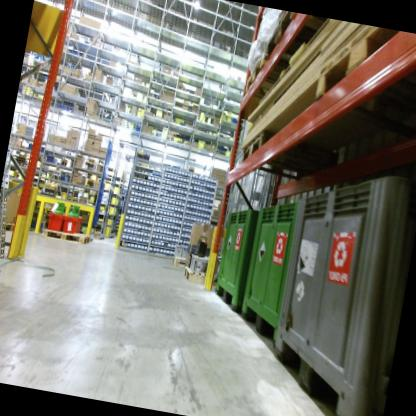pallet: (314, 23, 416, 120), (232, 126, 348, 196), (257, 9, 352, 71), (237, 56, 305, 106), (26, 222, 96, 253), (182, 265, 221, 290), (171, 251, 190, 270)
small_load_carrier: (60, 211, 84, 237), (43, 210, 67, 235)
